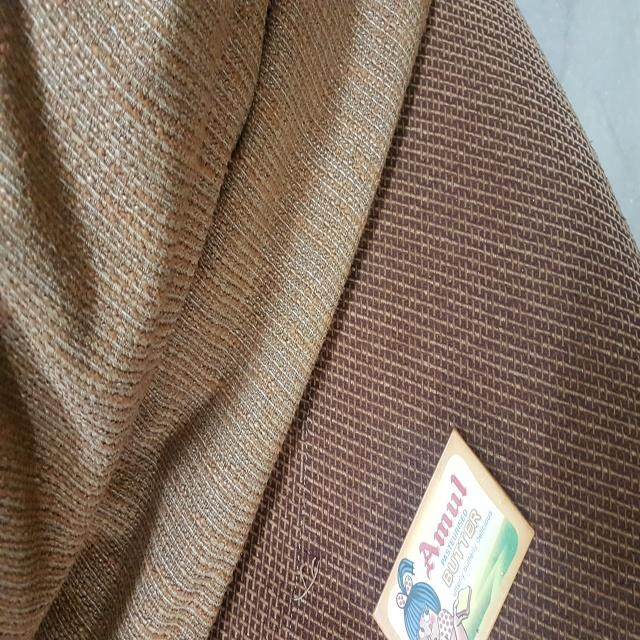butter: (366, 424, 533, 638)
